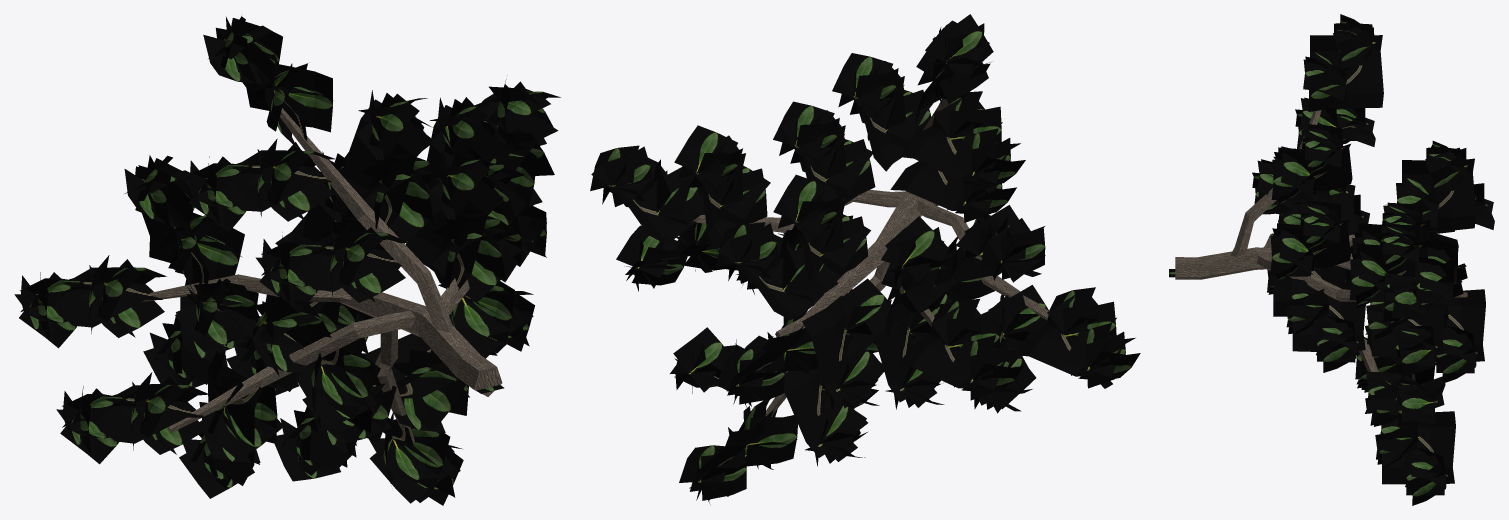
File: Rhododendron New 2.fbx
3 renders of one model, left to right at view 1: azimuth 30°, elevation 25°; view 2: azimuth 150°, elevation 25°; view 3: azimuth 270°, elevation 25°, orthographic. The views are drawn at different scales.
Visible parts, largest first — view 1: Trunk; view 2: Trunk; view 3: Trunk.
Boxes of the visible parts, left/top/right/bottom form: Trunk: left=14, top=16, right=560, bottom=505; Trunk: left=590, top=14, right=1140, bottom=504; Trunk: left=1175, top=14, right=1494, bottom=505.
Size of the model in its own units: 3761 by 3740 by 2711.
Materials: 279 (279 with a texture image).
